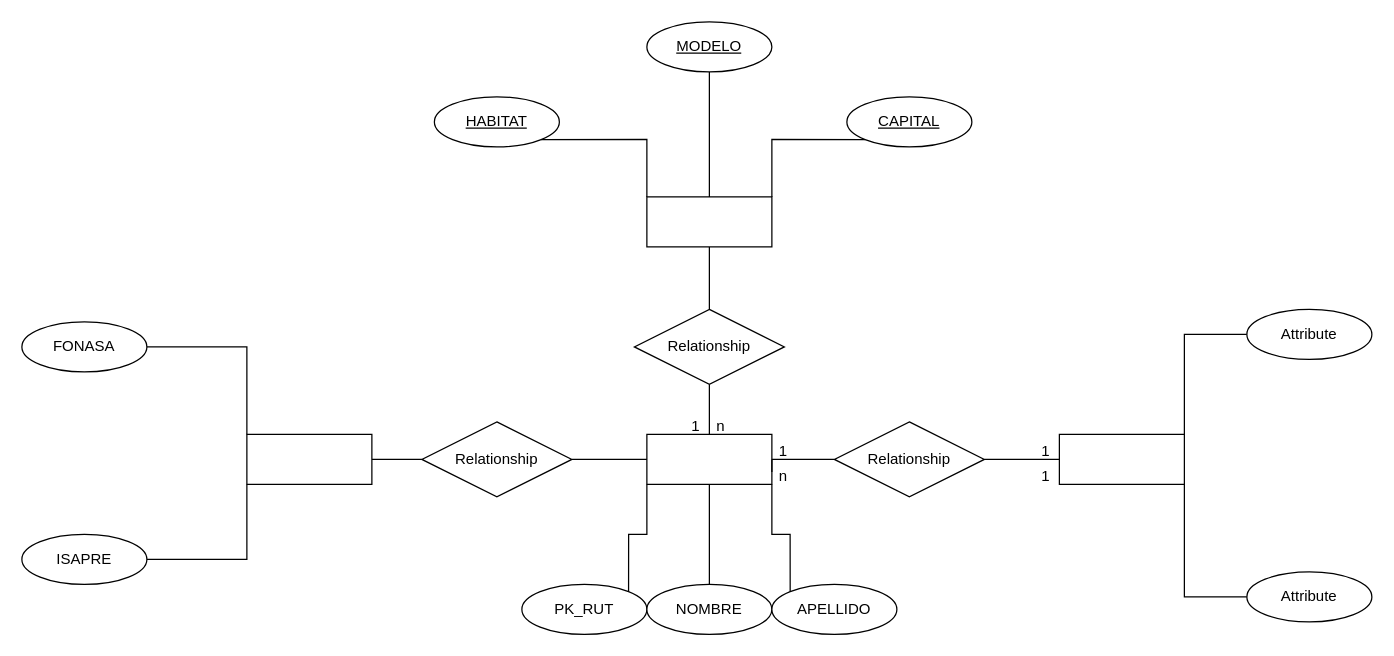
This 1394x656 diagram has some shape labels left out. The box of each missing label's shape, as (x1, y1, x2, y2) in pixels:
AFP: (646, 196, 772, 247)
cargo: (1058, 433, 1184, 484)
salud: (246, 433, 372, 484)
trabajador: (646, 433, 772, 484)
